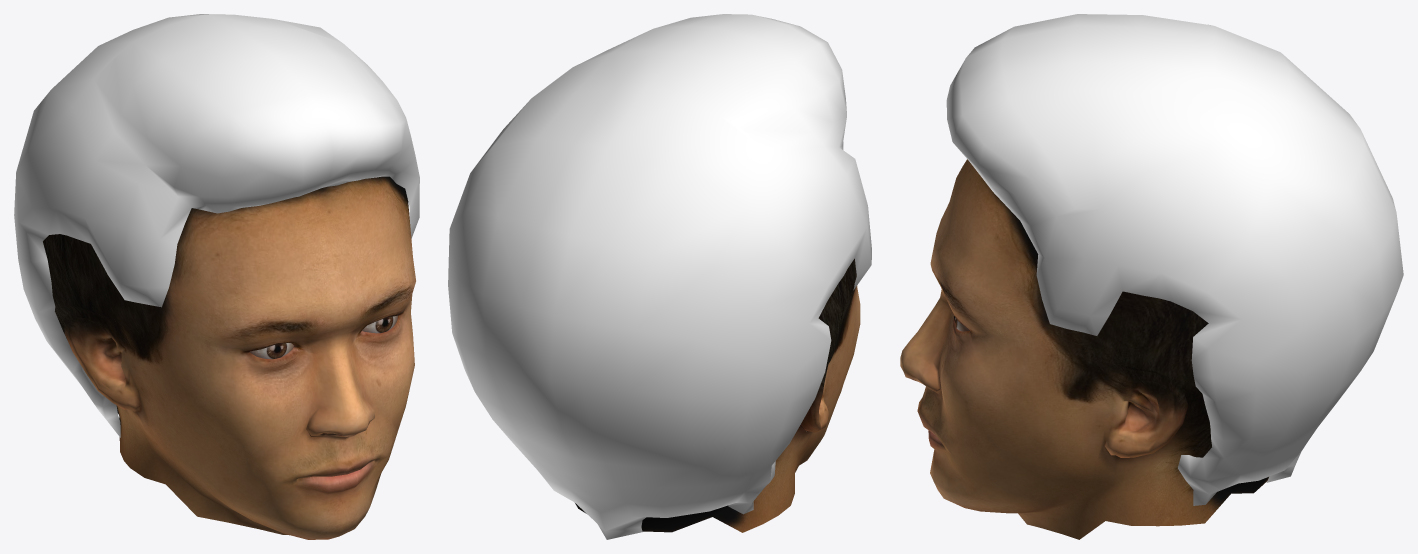
Rendered from envoy.glb.
3 views of the same model, side by side, from view 1: azimuth 30°, elevation 25°; view 2: azimuth 150°, elevation 25°; view 3: azimuth 270°, elevation 25° (orthographic). The views are drawn at different scales.
Parts seen in each view (by area): view 1: face, cap; view 2: cap, face; view 3: cap, face.
Boxes of the visible parts, left/top/right/bottom form: face: left=43, top=176, right=415, bottom=539; cap: left=14, top=14, right=419, bottom=437; cap: left=448, top=14, right=871, bottom=539; face: left=575, top=258, right=860, bottom=532; cap: left=946, top=14, right=1403, bottom=505; face: left=900, top=159, right=1268, bottom=539.
Bounding box in the file's own units: 0.2215 × 0.2781 × 0.2658.
2 materials, 1 textured.
